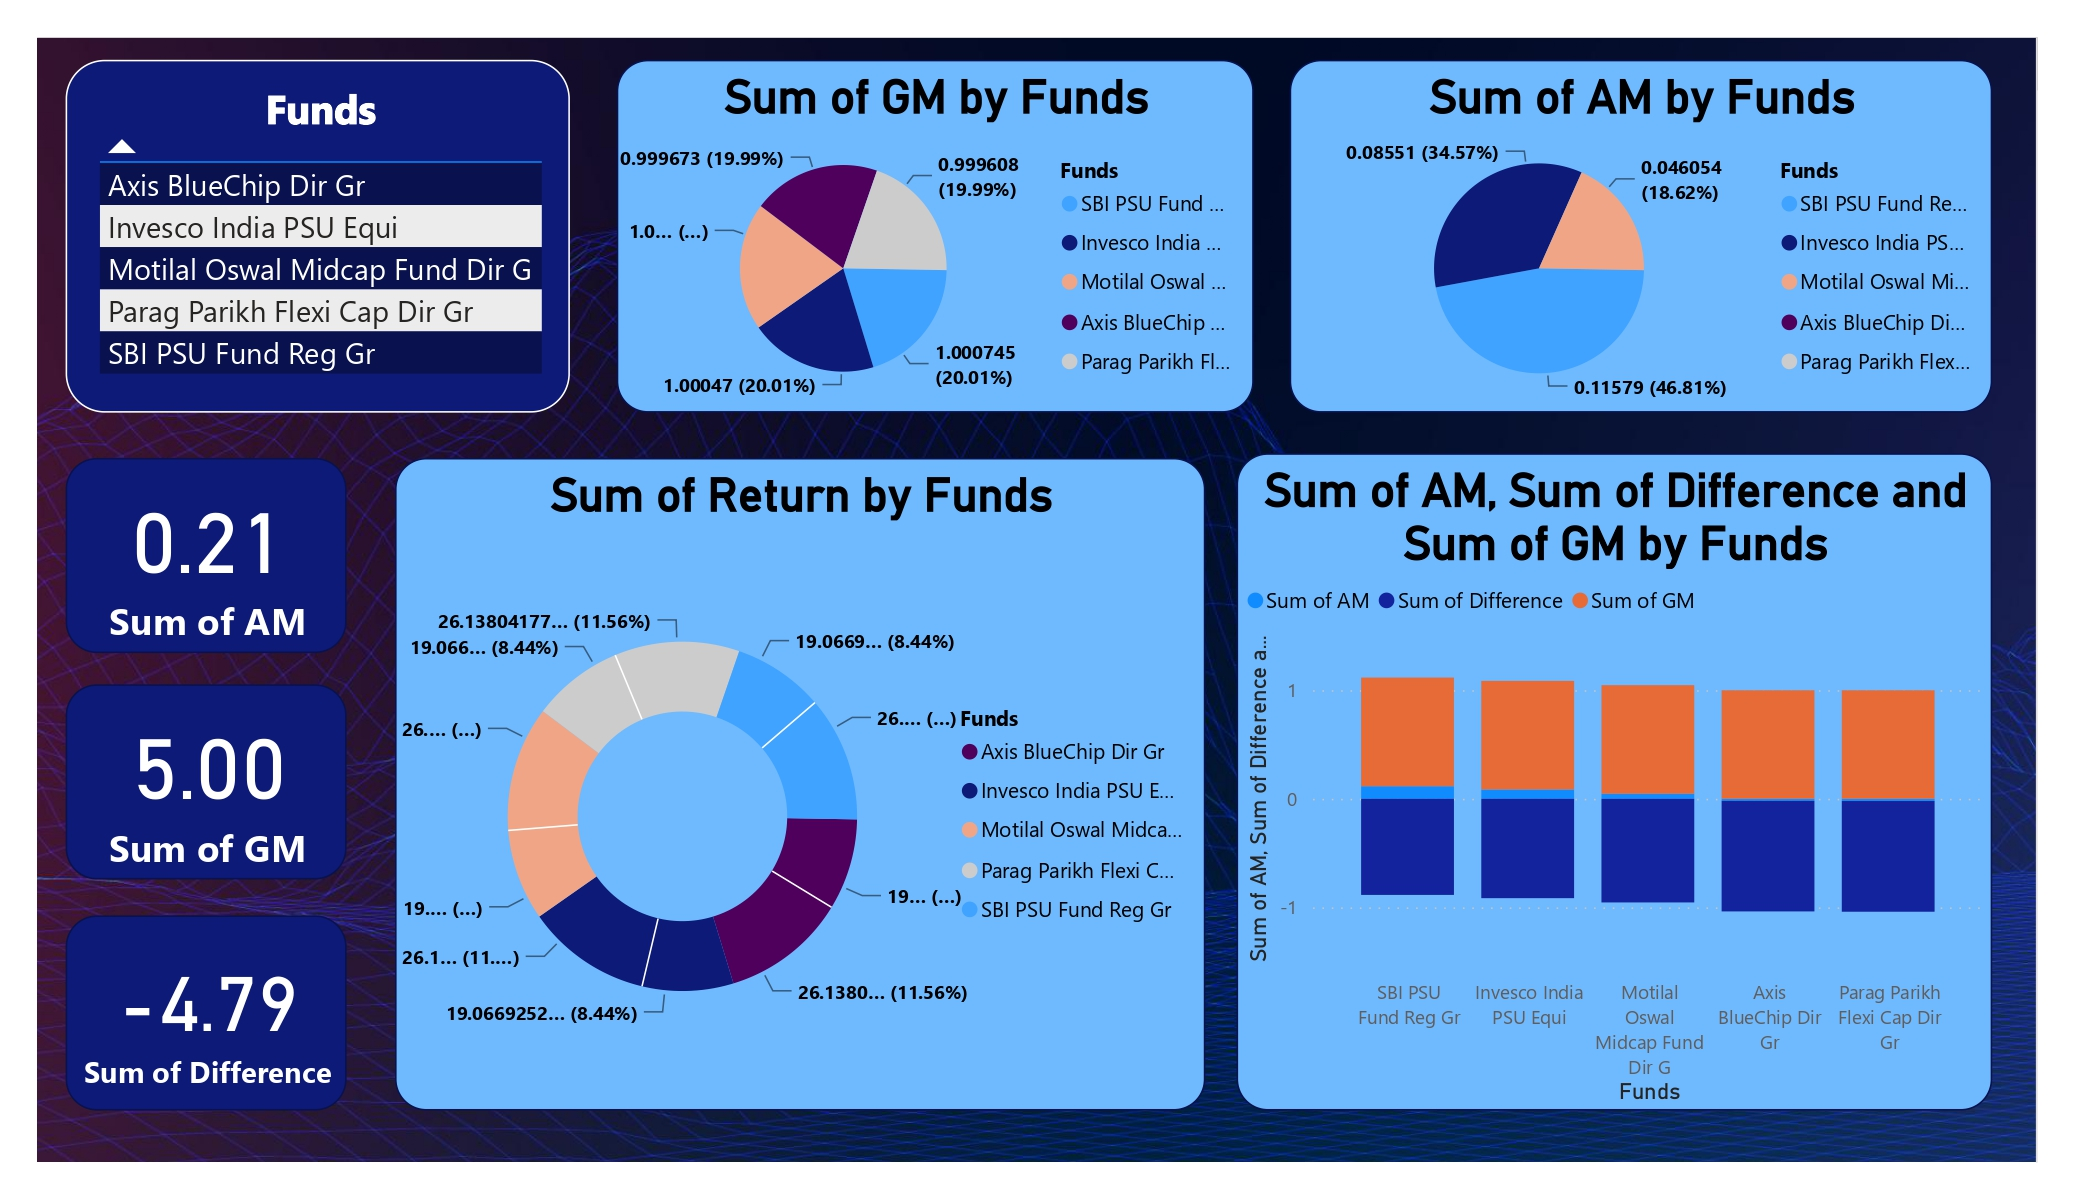

What the dashboard file says about the page in this screenshot:
{"tool":"powerbi","page":{"name":"Funds Dashboard","canvas":[1280,720],"ordinal":0},"visuals":[{"type":"tableEx","fields":{"Values":["Funds.Funds"]},"box":[18.5,14.2,322.8,226.1],"z":0},{"type":"card","fields":{"Values":["Sum(Funds.AM)"]},"box":[18.5,268.8,179.2,125.2],"z":1000},{"type":"card","fields":{"Values":["Sum(Funds.GM)"]},"box":[18.5,413.9,179.2,125.2],"z":2000},{"type":"card","fields":{"Values":["Sum(Funds.Difference)"]},"box":[18.5,561.8,179.2,125.2],"z":3000},{"type":"pieChart","fields":{"Y":["Sum(Funds.AM)"],"Category":["Funds.Funds"]},"box":[802.1,14.2,449.4,226.1],"z":4000},{"type":"pieChart","fields":{"Y":["Sum(Funds.GM)"],"Category":["Funds.Funds"]},"box":[371.2,14.2,408.2,226.1],"z":4001},{"type":"columnChart","fields":{"Y":["Sum(Funds.AM)","Sum(Funds.Difference)","Sum(Funds.GM)"],"Category":["Funds.Funds"]},"box":[768,266,483.6,421],"z":4002},{"type":"donutChart","title":"Sum of Return by Funds","fields":{"Category":["Funds.Funds"],"Y":["Sum(Invesco India PSU Equi.Return)","Sum(Axis BlueChip Dir Gr.Return)","Sum(Parag Parikh Flexi Cap Dir Gr.Return)","Sum(SBI PSU Fund Reg Gr.Return)"]},"box":[229,268.8,519.1,418.1],"z":4003}]}

Visuals, with their boxes in screenshot pixels (x1, y1, x2, y2):
tableEx - Funds.Funds: box(0, 34, 522, 409)
card - Sum(Funds.AM): box(0, 456, 284, 664)
card - Sum(Funds.GM): box(0, 697, 284, 904)
card - Sum(Funds.Difference): box(0, 942, 284, 1149)
pieChart - Sum(Funds.AM) x Funds.Funds: box(1286, 34, 2031, 409)
pieChart - Sum(Funds.GM) x Funds.Funds: box(572, 34, 1249, 409)
columnChart - Sum(Funds.AM) x Sum(Funds.Difference): box(1230, 452, 2031, 1149)
"Sum of Return by Funds" donutChart: box(336, 456, 1197, 1149)
